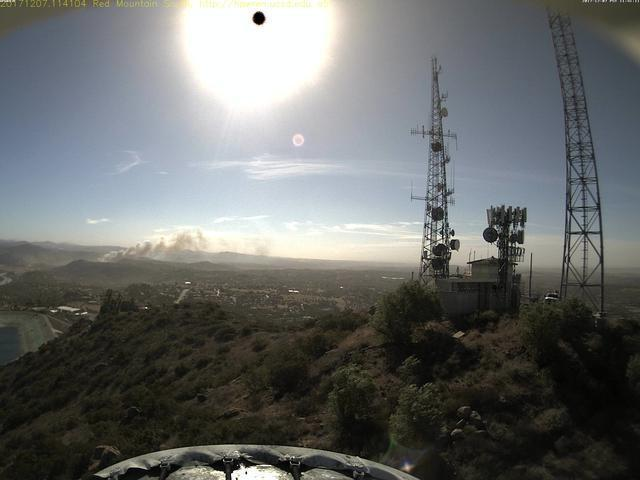Smoke: (93, 220, 267, 265)
